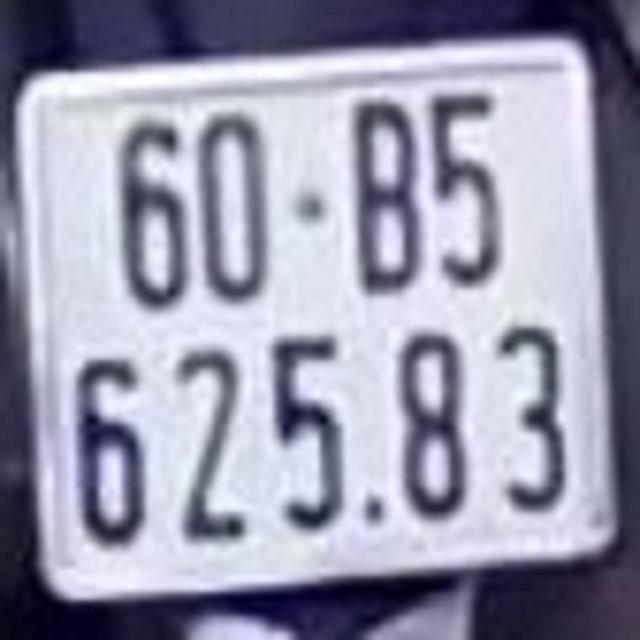0: (196, 106, 272, 304)
2: (170, 338, 251, 545)
3: (492, 316, 572, 515)
5: (268, 328, 351, 533), (428, 85, 508, 290)
6: (71, 349, 150, 548), (114, 111, 190, 312)
8: (391, 318, 472, 522)
B: (348, 92, 425, 297)
